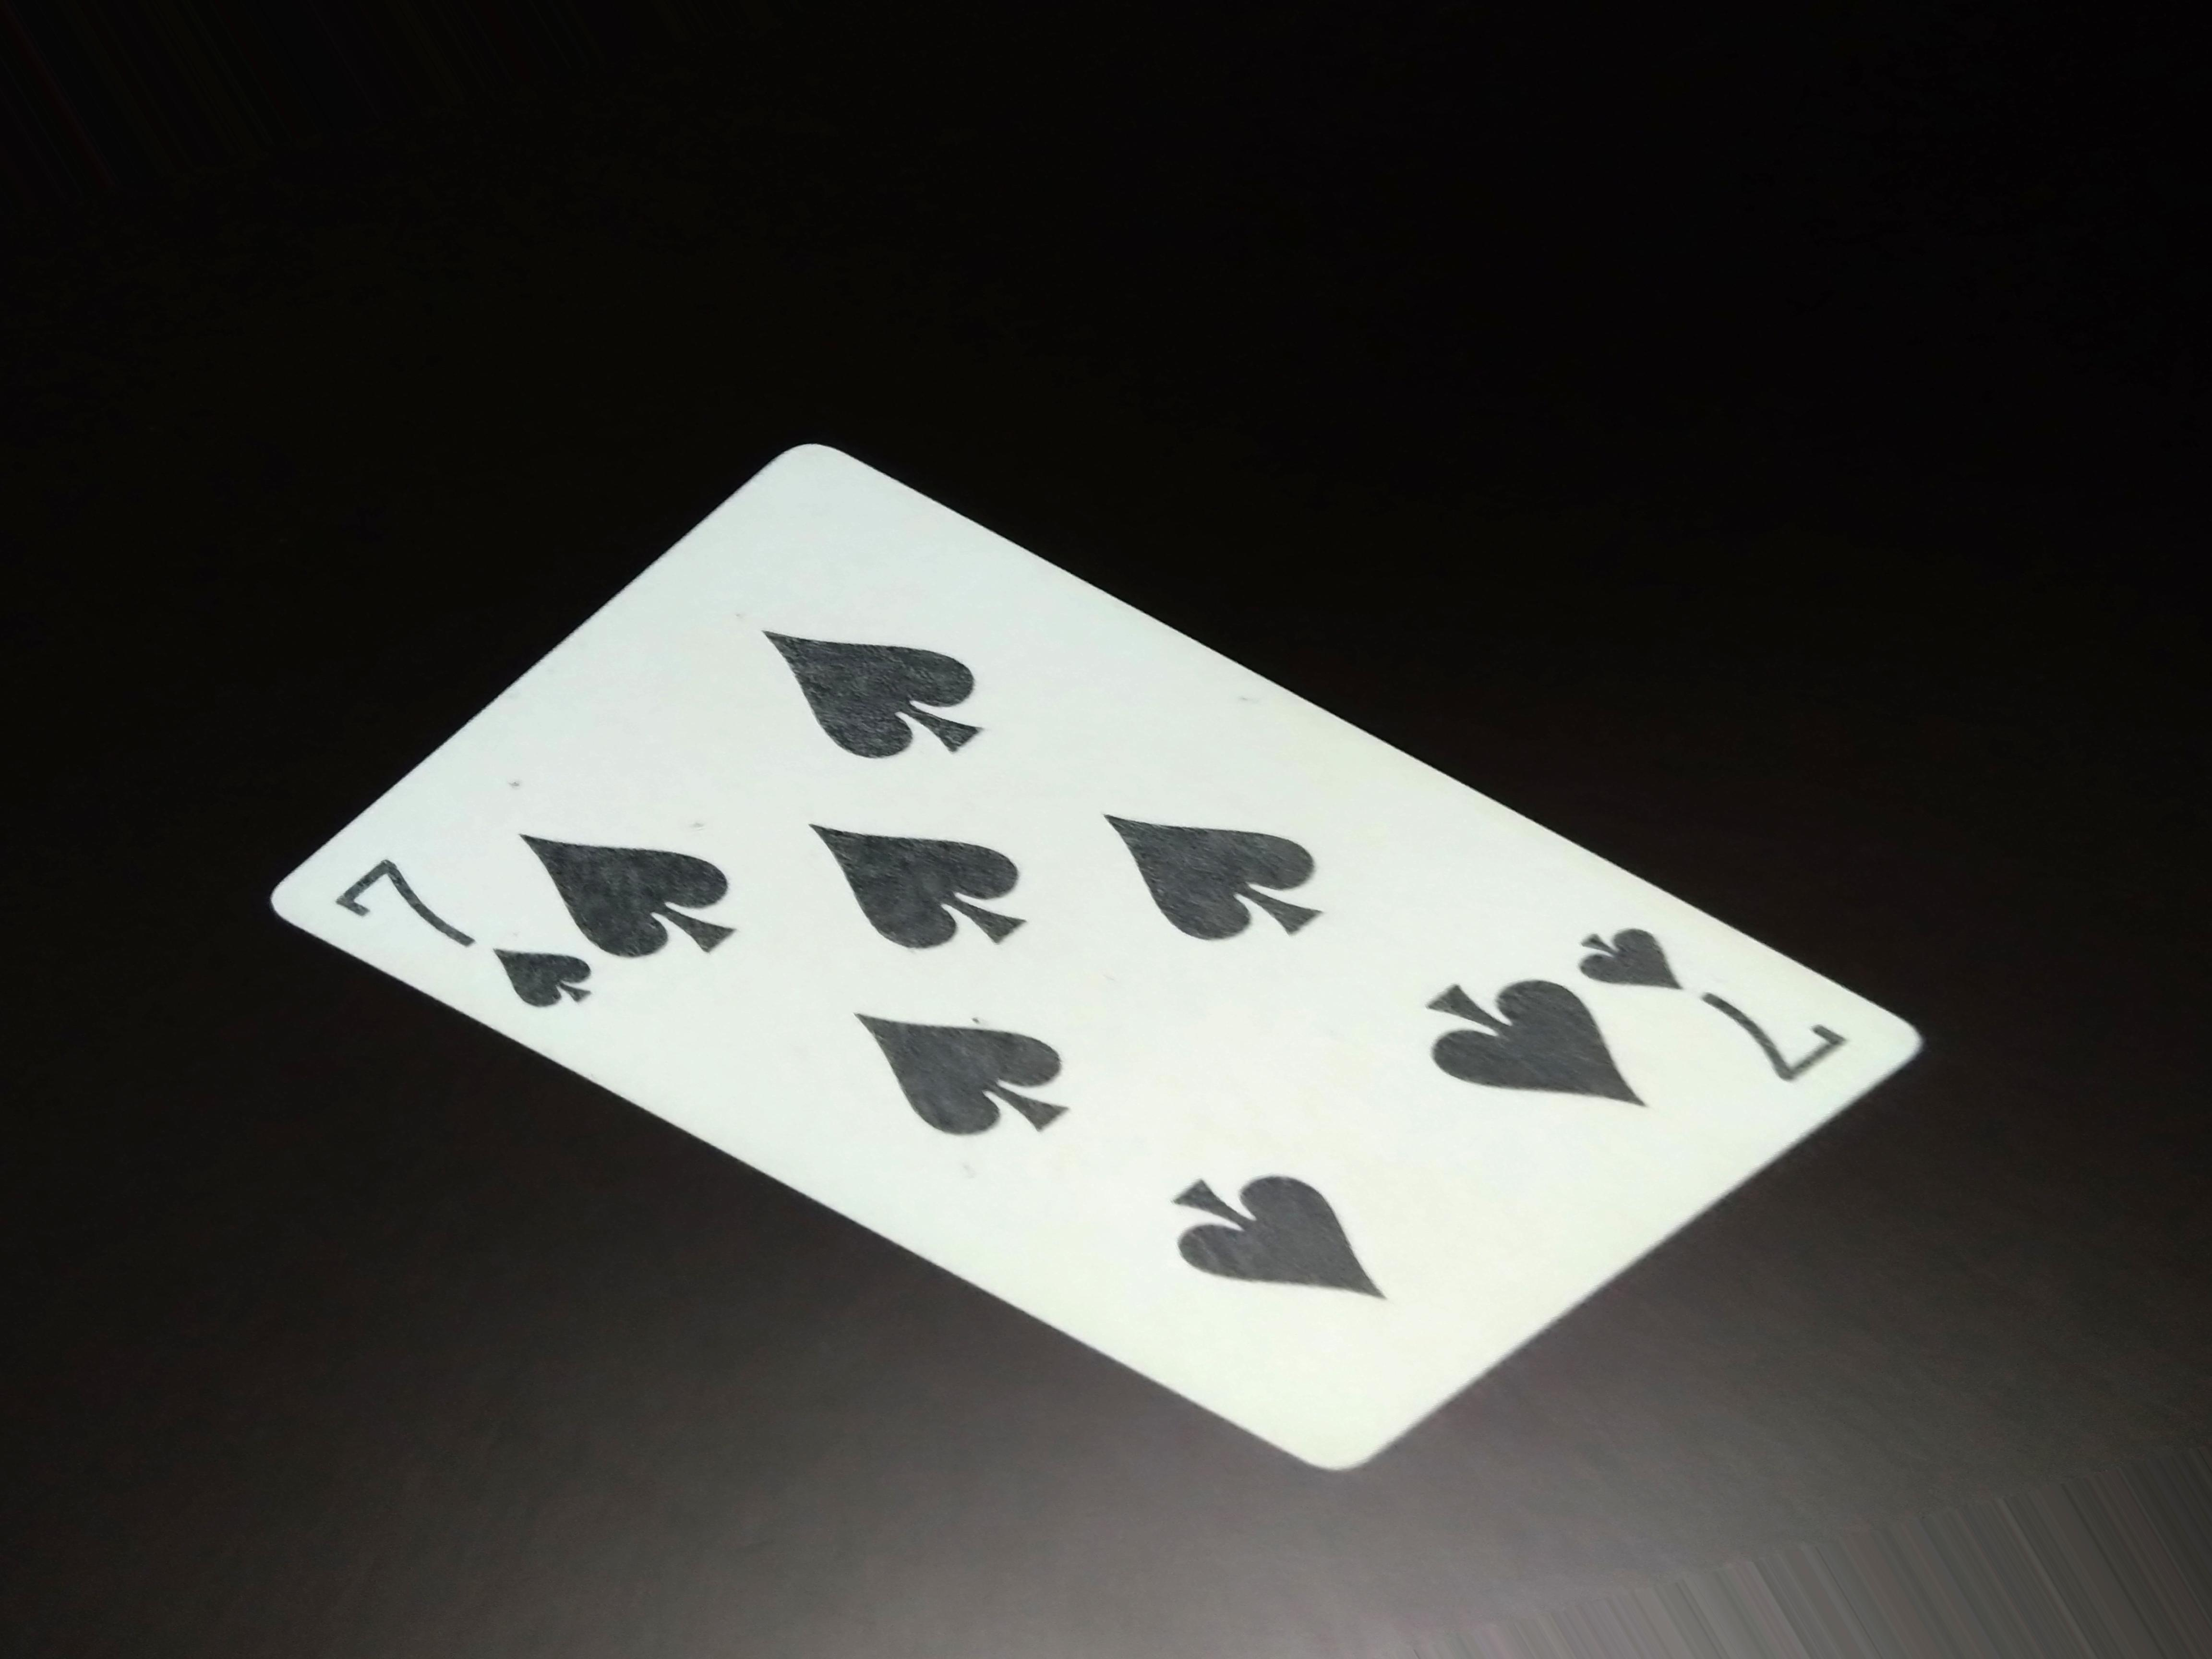7S: (1573, 922, 1871, 1108)
